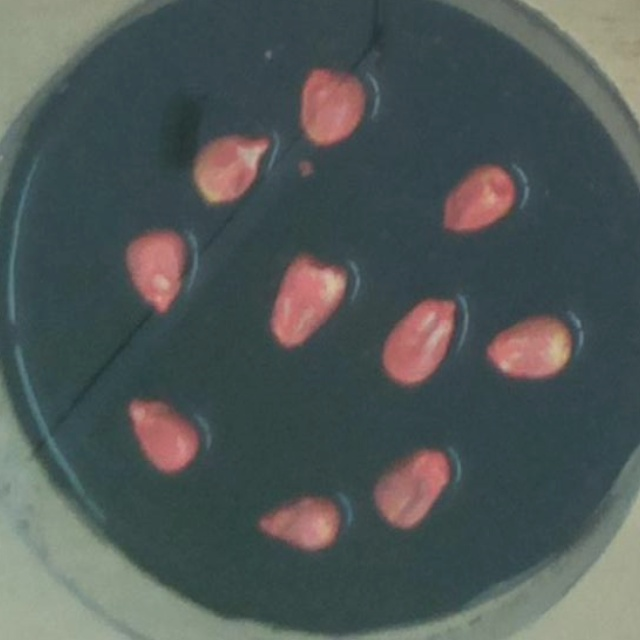Zea mays: (258, 241, 355, 355), (372, 291, 466, 392), (366, 439, 458, 537), (181, 125, 276, 212), (119, 388, 208, 480), (116, 221, 195, 321), (248, 481, 348, 558), (479, 307, 579, 384), (432, 155, 521, 240), (293, 58, 373, 152)
